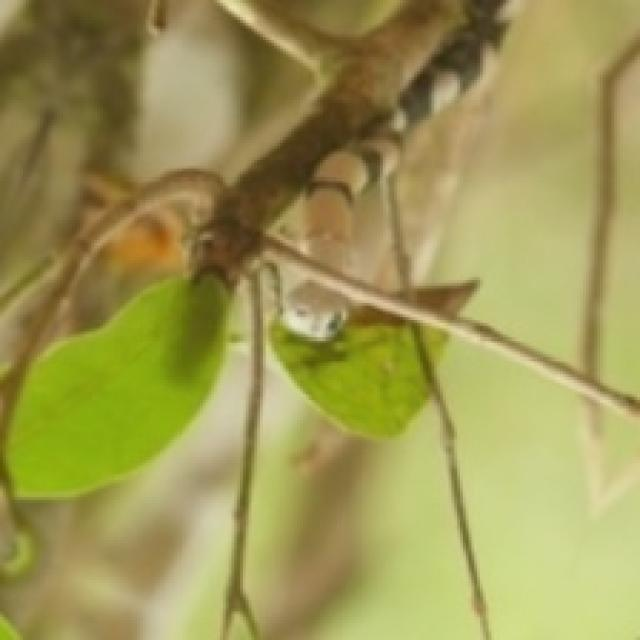king cobra: (394, 0, 637, 391), (0, 0, 317, 291), (0, 280, 249, 637), (246, 349, 480, 637), (437, 337, 637, 637), (51, 223, 183, 331)
